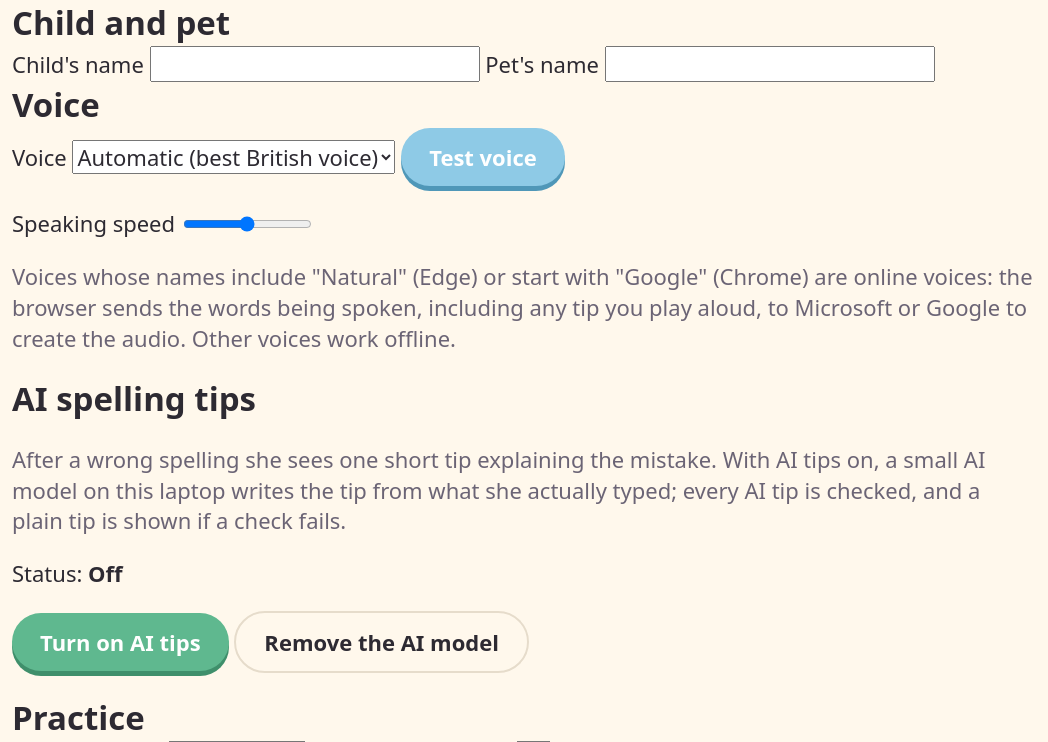
Scenario: SettingsTab › AI spelling tips › says why it cannot run on an unsupported computer
This screenshot has width=1048, height=742.
What coordinates should you click on to do the following:
click the button "Turn on AI tips"
I would click on:
 (120, 642)
Its box is [12,613,229,671].
(page scrolled)
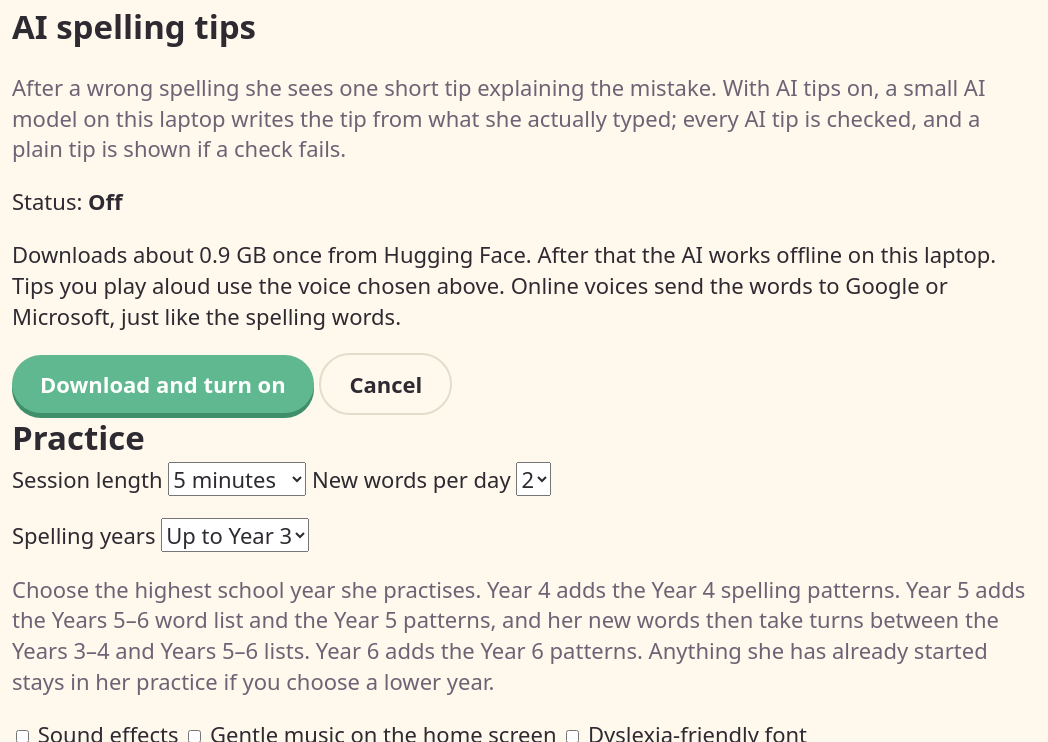
What coordinates should you click on to do the following:
click the button "Download and turn on"
I would click on:
 (163, 384)
Its box is [12,355,314,413].
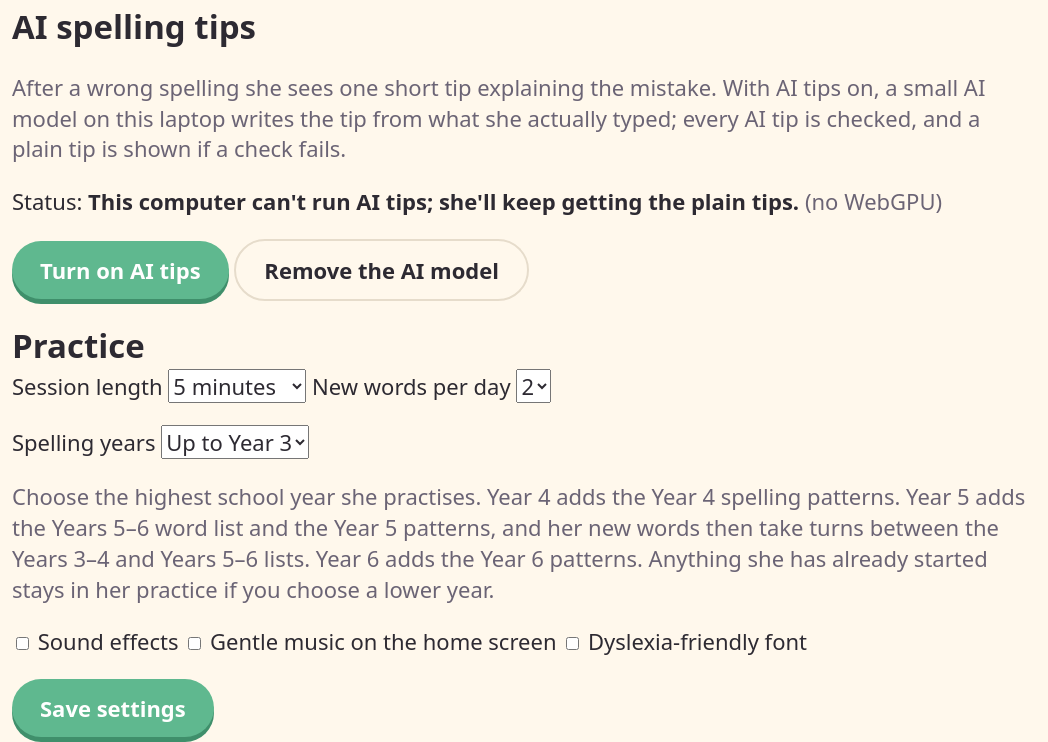
Check: the text "This computer can't run AI tips; she'll keep getting the plain tips." is shown, box [88,186,799,216]
